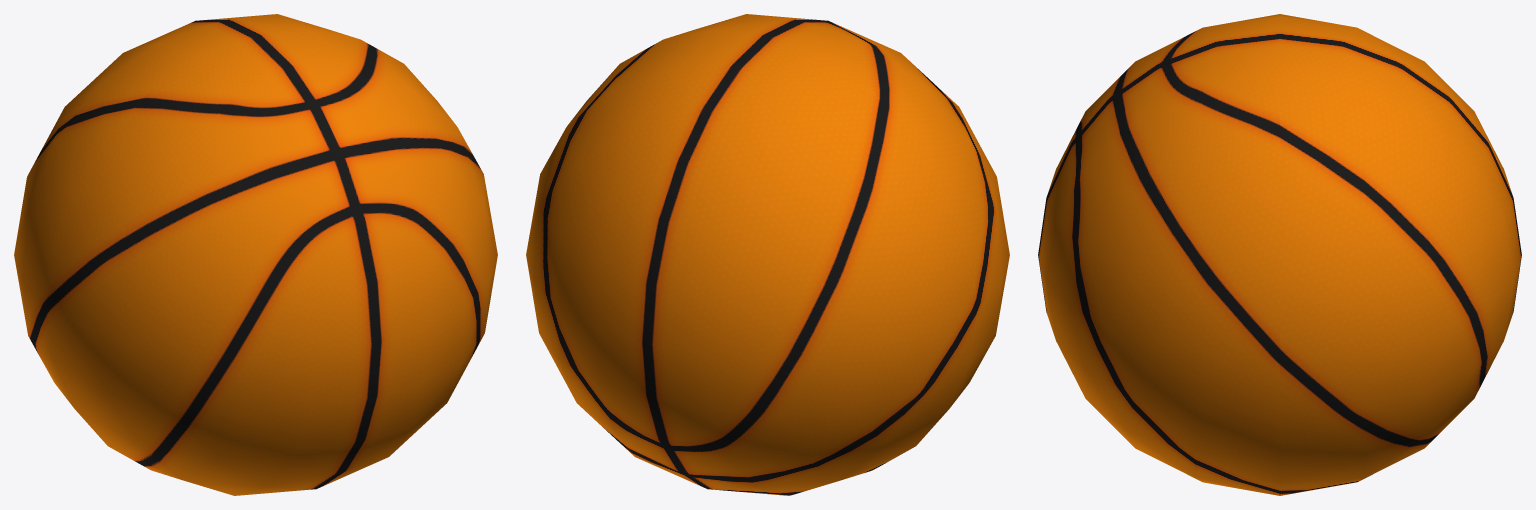
File: Basketball.FBX
The picture shows the model from 3 angles, left to right: view 1: azimuth 30°, elevation 25°; view 2: azimuth 150°, elevation 25°; view 3: azimuth 270°, elevation 25°; orthographic projection.
Visible parts, largest first — view 1: Basketball; view 2: Basketball; view 3: Basketball.
Boxes of the visible parts, x1=… form: Basketball: x1=14, y1=14, x2=497, y2=495; Basketball: x1=526, y1=14, x2=1009, y2=495; Basketball: x1=1038, y1=14, x2=1521, y2=495.
Bounding box in the file's own units: 90.86 × 90.86 × 90.86.
